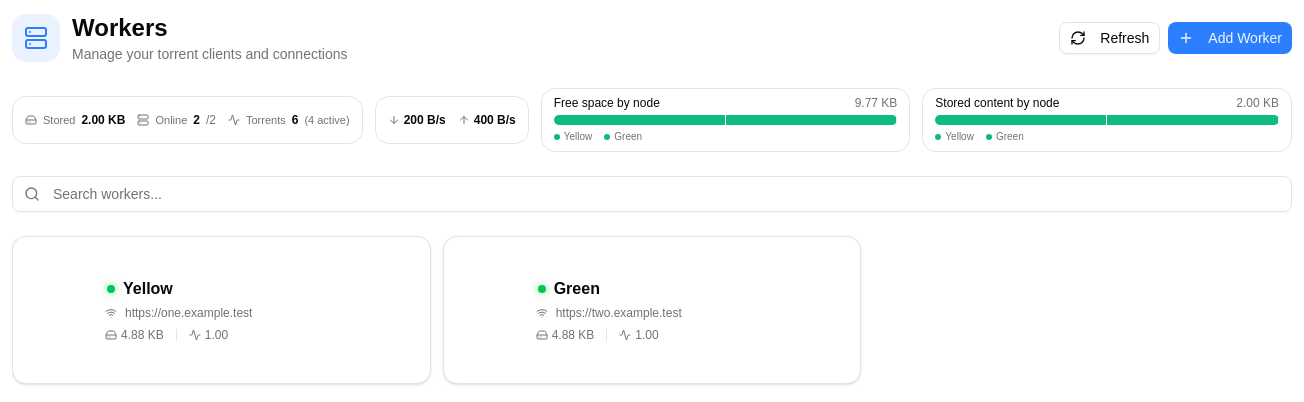
Workers overview integration › retains data while the overview refresh is pending and publishes the new result
Expected: the text "2.00 KB" next to "Online" is shown, [81, 113, 125, 127]
Step 1. Click the button "Refresh" → {"x": 1110, "y": 38}, box [1059, 22, 1160, 54]
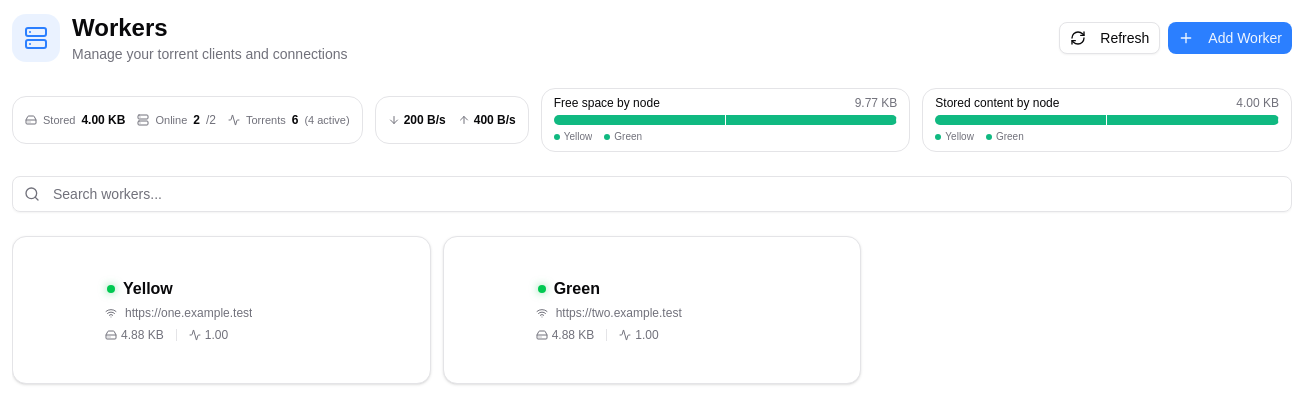
Expected: the text "2.00 KB" next to "Online" is shown, [81, 112, 125, 128]
Expected: the text "4.00 KB" next to "Online" is shown, [81, 113, 125, 127]
